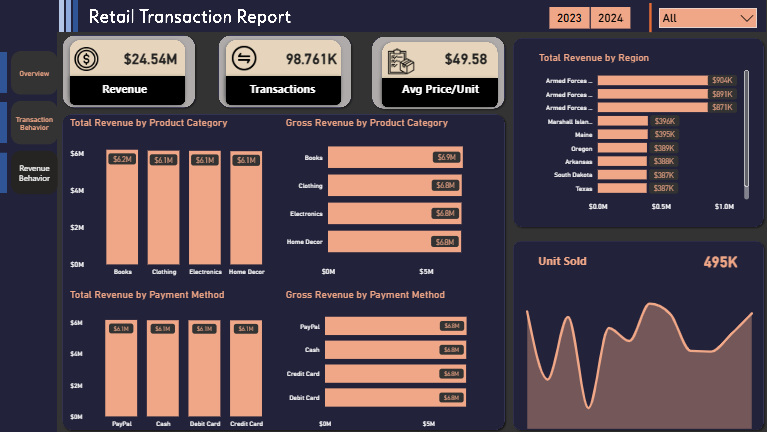

What the dashboard file says about the page in this screenshot:
{"tool":"powerbi","page":{"name":"Revenue Behavior","canvas":[1280,720],"ordinal":2},"visuals":[{"type":"image","box":[0,0,1280,720],"z":0},{"type":"pageNavigator","box":[20,85,78.3,240],"z":1000},{"type":"slicer","fields":{"Values":["retail_cleaned.transaction_date.Variation.Date Hierarchy.Year"]},"box":[893,7,183,44],"z":2000},{"type":"slicer","fields":{"Values":["retail_cleaned.product_category"]},"box":[1090,4,183,48],"z":3000},{"type":"shape","box":[1075.7,4.3,21.4,48.6],"z":4000},{"type":"cardVisual","fields":{"Data":["retail_cleaned.Total Revenue"]},"box":[153.3,68.3,173.3,58.3],"z":5000},{"type":"cardVisual","fields":{"Data":["retail_cleaned.Avg Price per Unit"]},"box":[670,68.3,173.3,58.3],"z":6000},{"type":"textbox","box":[131.4,130,155.7,40],"z":7000},{"type":"textbox","box":[395,130,155,40],"z":8000},{"type":"textbox","box":[658.3,130,155,40],"z":9000},{"type":"image","box":[111.7,77.5,67.5,40],"z":10000},{"type":"image","box":[375,74,66,47],"z":11000},{"type":"image","box":[646.7,78.3,46.7,48.3],"z":12000},{"type":"columnChart","title":"Total Revenue by Product Category","fields":{"Y":["retail_cleaned.Total Revenue"],"Category":["retail_cleaned.product_category"]},"box":[113.3,193.3,360,273.3],"z":13000},{"type":"barChart","title":"Gross Revenue by Product Category","fields":{"Category":["retail_cleaned.product_category"],"Y":["retail_cleaned.Gross Revenue"]},"box":[473.3,193.3,360,273.3],"z":14000},{"type":"columnChart","title":"Total Revenue by Payment Method","fields":{"Y":["retail_cleaned.Total Revenue"],"Category":["retail_cleaned.PaymentMethod"]},"box":[113.3,480,360,240],"z":15000},{"type":"barChart","title":"Gross Revenue by Payment Method","fields":{"Y":["retail_cleaned.Gross Revenue"],"Category":["retail_cleaned.PaymentMethod"]},"box":[473.3,480,360,240],"z":16000},{"type":"barChart","title":"Total Revenue by Region","fields":{"Y":["retail_cleaned.Total Revenue"],"Category":["retail_cleaned.regional"]},"box":[895,85,360,273.3],"z":17000},{"type":"lineChart","fields":{"Category":["retail_cleaned.transaction_date.Variation.Date Hierarchy.Month"],"Y":["retail_cleaned.Total Units Sold"]},"box":[861.7,466.7,411.7,253.3],"z":18000},{"type":"textbox","box":[861.7,416.7,155,40],"z":19000},{"type":"cardVisual","fields":{"Data":["retail_cleaned.Total Units Sold"]},"box":[1086.7,406.7,173.3,58.3],"z":20000},{"type":"cardVisual","fields":{"Data":["retail_cleaned.Total Transactions"]},"box":[419,68,174,58],"z":21000}]}

Visuals, with their boxes in screenshot pixels (x1, y1, x2, y2), scaled from the page's 1280x720 canvas onto the 767x432 screenshot:
image: x1=0 y1=0 x2=766 y2=431
pageNavigator: x1=12 y1=51 x2=59 y2=195
slicer - retail_cleaned.transaction_date.Variation.Date Hierarchy.Year: x1=535 y1=4 x2=645 y2=31
slicer - retail_cleaned.product_category: x1=653 y1=2 x2=763 y2=31
shape: x1=645 y1=3 x2=657 y2=32
cardVisual - retail_cleaned.Total Revenue: x1=92 y1=41 x2=196 y2=76
cardVisual - retail_cleaned.Avg Price per Unit: x1=401 y1=41 x2=505 y2=76
textbox: x1=79 y1=78 x2=172 y2=102
textbox: x1=237 y1=78 x2=330 y2=102
textbox: x1=394 y1=78 x2=487 y2=102
image: x1=67 y1=46 x2=107 y2=70
image: x1=225 y1=44 x2=264 y2=73
image: x1=388 y1=47 x2=415 y2=76
"Total Revenue by Product Category" columnChart: x1=68 y1=116 x2=284 y2=280
"Gross Revenue by Product Category" barChart: x1=284 y1=116 x2=499 y2=280
"Total Revenue by Payment Method" columnChart: x1=68 y1=288 x2=284 y2=431
"Gross Revenue by Payment Method" barChart: x1=284 y1=288 x2=499 y2=431
"Total Revenue by Region" barChart: x1=536 y1=51 x2=752 y2=215
lineChart - retail_cleaned.transaction_date.Variation.Date Hierarchy.Month x retail_cleaned.Total Units Sold: x1=516 y1=280 x2=763 y2=431
textbox: x1=516 y1=250 x2=609 y2=274
cardVisual - retail_cleaned.Total Units Sold: x1=651 y1=244 x2=755 y2=279
cardVisual - retail_cleaned.Total Transactions: x1=251 y1=41 x2=355 y2=76
